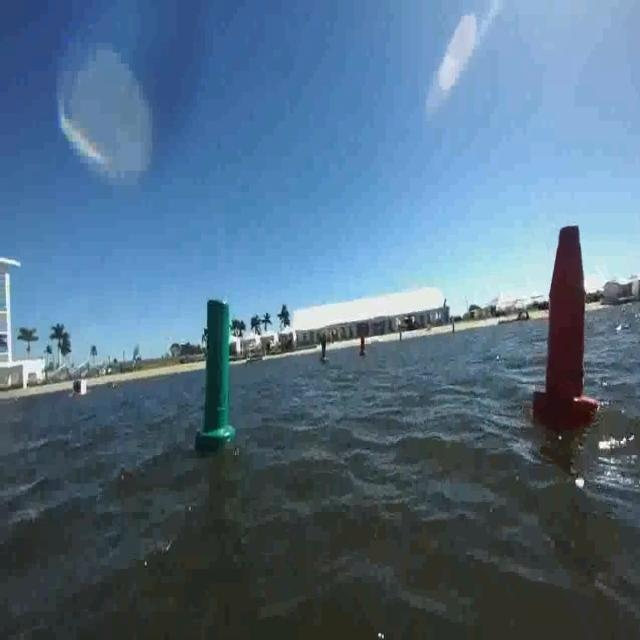green-column-buoy: (199, 294, 236, 446)
red-column-buoy: (534, 224, 598, 430)
